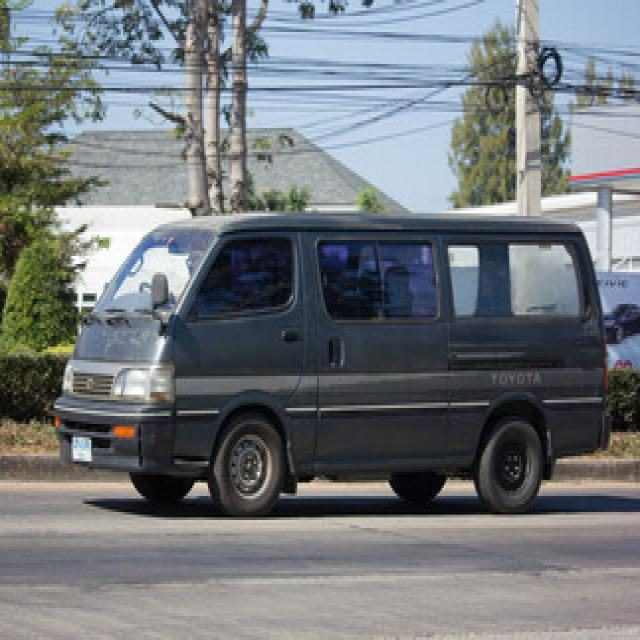van: (55, 216, 606, 515)
